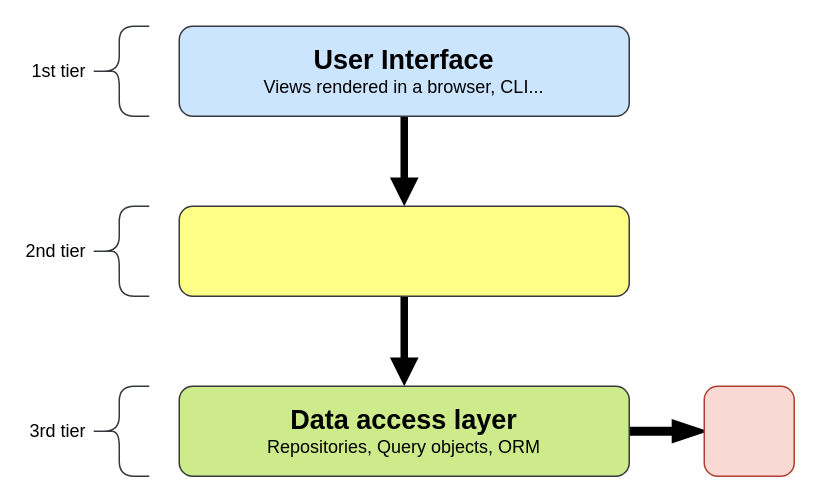
Some shapes in this 821 by 503 pixel diagram are drawn without their labels. Each missing label, with the centre of its shape:
Business Logic events, servicies, main logic and calculations...: point (403, 250)
Data: point (748, 430)
